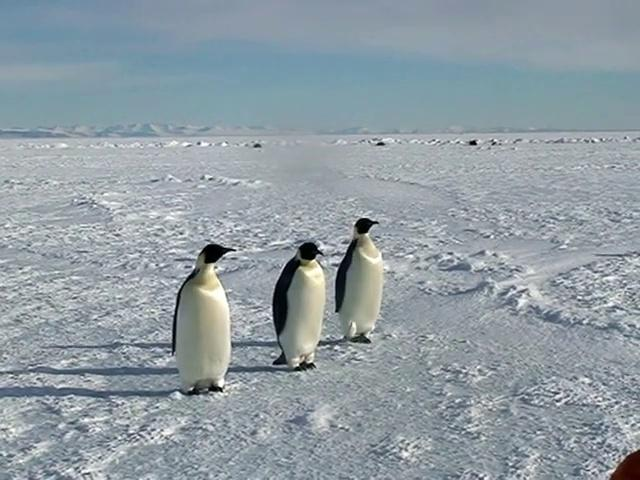animal: (336, 219, 384, 344)
